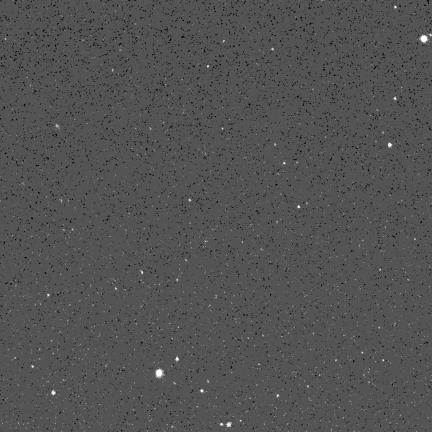blob: (156, 369, 164, 378), (420, 36, 428, 43), (52, 390, 57, 396), (200, 389, 205, 394), (388, 143, 392, 148), (271, 48, 275, 52), (220, 423, 224, 426), (176, 357, 179, 361), (32, 365, 35, 369), (394, 97, 397, 101), (307, 385, 310, 389), (277, 395, 280, 398), (47, 294, 50, 297), (283, 162, 286, 165), (298, 206, 301, 209), (207, 65, 210, 68)
